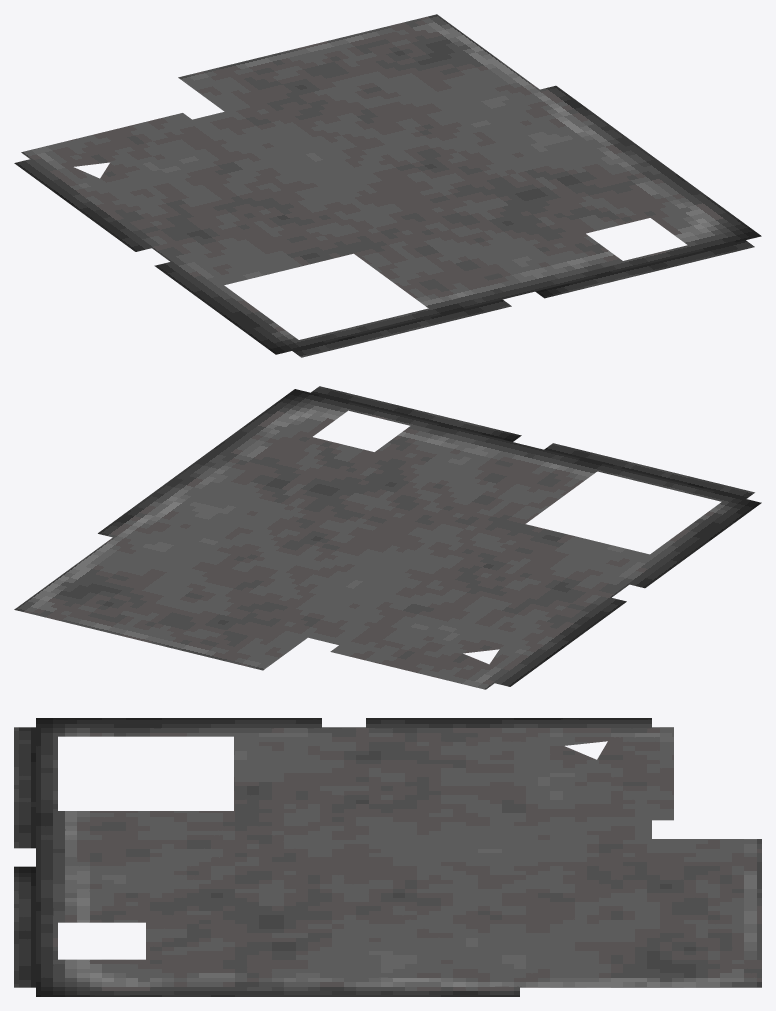
Rendered from F_DECK_2.obj.
3 views of the same model, one above another, from view 1: azimuth 30°, elevation 25°; view 2: azimuth 150°, elevation 25°; view 3: azimuth 270°, elevation 25° (orthographic). The views are drawn at different scales.
Visible parts, largest first — view 1: F_DECK_2; view 2: F_DECK_2; view 3: F_DECK_2.
Part boxes in pixels (x1,y1,x2,y2): F_DECK_2: [14, 14, 761, 357]; F_DECK_2: [14, 386, 761, 689]; F_DECK_2: [14, 718, 761, 996].
Bounding box in the file's own units: 480 × 0 × 544.
